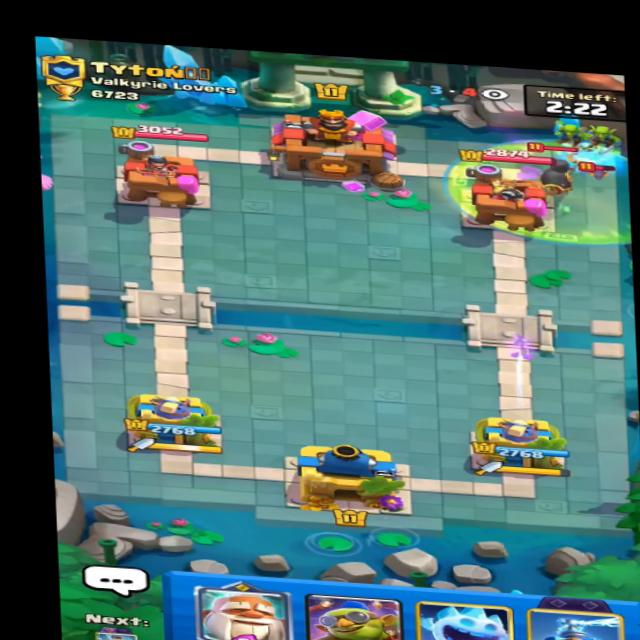bats: (581, 165, 620, 186)
night-witch: (536, 140, 586, 201)
